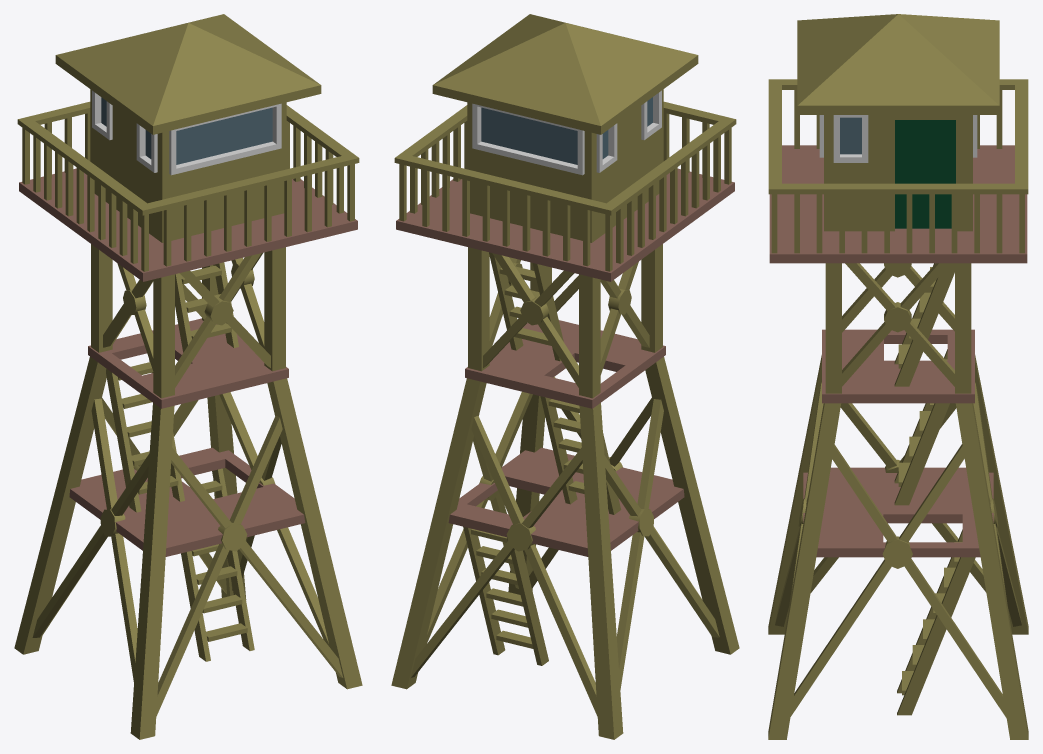
The model's file is ds_tower.glb.
The picture shows the model from 3 angles, left to right: view 1: azimuth 30°, elevation 25°; view 2: azimuth 150°, elevation 25°; view 3: azimuth 270°, elevation 25°; orthographic projection. The views are drawn at different scales.
Parts seen in each view (by area): view 1: ds_tower; view 2: ds_tower; view 3: ds_tower.
Boxes of the visible parts, x1,y1,x2,y2 form: ds_tower: (14, 14, 362, 739); ds_tower: (391, 14, 739, 739); ds_tower: (768, 14, 1028, 739).
Size of the model in its own units: 4.47 by 12.33 by 4.35.
